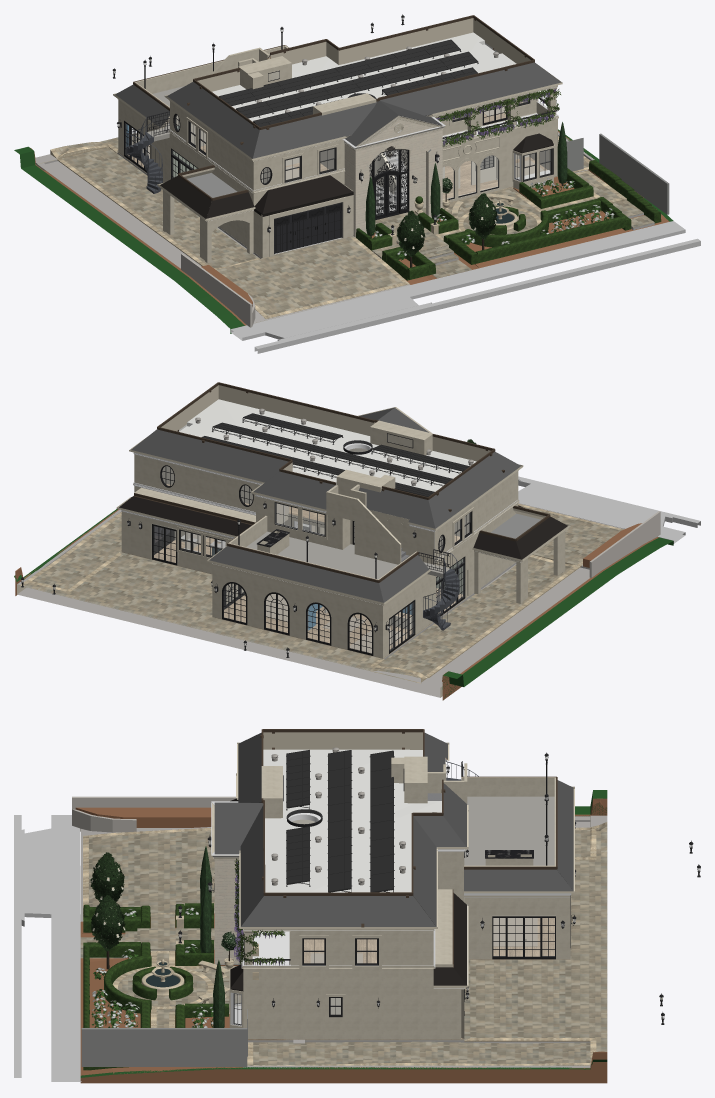
File: exterior-house-a51dc256f5b1.glb
3 renders of one model, top to bottom at view 1: azimuth 30°, elevation 25°; view 2: azimuth 150°, elevation 25°; view 3: azimuth 270°, elevation 25°, orthographic. The views are drawn at different scales.
Parts seen in each view (by area): view 1: exterior-house-2097c6bf0b01330b, exterior-house-b5dfe7249a3eb059, exterior-house-e7e6fa835f441169, exterior-house-27d577fbd7f2ff4b, exterior-house-aee2d046b0172b1e, exterior-house-772a07b3069847f0, exterior-house-e33d7b378dc851e2, exterior-house-d56ee2a9d54b1fc2, exterior-house-8ae50a6395ceb8a4, exterior-house-0b9d5d1cd0b2c60f, exterior-house-7cf8e5cfa8b264af, exterior-house-25c3ff3929e46046 (+47 smaller); view 2: exterior-house-37d1b262fca80116, exterior-house-8ae50a6395ceb8a4, exterior-house-d56ee2a9d54b1fc2, exterior-house-27d577fbd7f2ff4b, exterior-house-969b861f9850351e, exterior-house-aee2d046b0172b1e, exterior-house-c91f911e25c8cae7, exterior-house-5febae1537653d02, exterior-house-b5dfe7249a3eb059, exterior-house-3763e2fb8578d282, exterior-house-2c1fd33d433632d0, exterior-house-0cae3eb2f2d52fad (+40 smaller); view 3: exterior-house-37d1b262fca80116, exterior-house-aee2d046b0172b1e, exterior-house-b5dfe7249a3eb059, exterior-house-d56ee2a9d54b1fc2, exterior-house-2097c6bf0b01330b, exterior-house-2c1fd33d433632d0, exterior-house-07f5bde4319b7ab4, exterior-house-e7e6fa835f441169, exterior-house-a75a0c9c223328ee, exterior-house-ded88bd99590d377, exterior-house-af97eba351c411ae, exterior-house-e706aa16b4547c37 (+54 smaller).
Boxes of the visible parts, box(x1,y1,x2,y2) form: exterior-house-2097c6bf0b01330b: box(216, 236, 409, 318); exterior-house-b5dfe7249a3eb059: box(230, 221, 685, 340); exterior-house-e7e6fa835f441169: box(356, 182, 625, 280); exterior-house-27d577fbd7f2ff4b: box(57, 147, 260, 269); exterior-house-aee2d046b0172b1e: box(14, 129, 673, 333); exterior-house-772a07b3069847f0: box(254, 238, 700, 353); exterior-house-e33d7b378dc851e2: box(380, 62, 560, 115); exterior-house-d56ee2a9d54b1fc2: box(212, 32, 516, 121); exterior-house-8ae50a6395ceb8a4: box(35, 132, 594, 323); exterior-house-0b9d5d1cd0b2c60f: box(236, 51, 478, 118); exterior-house-7cf8e5cfa8b264af: box(218, 39, 461, 105); exterior-house-25c3ff3929e46046: box(253, 101, 377, 158); exterior-house-37d1b262fca80116: box(20, 552, 427, 683); exterior-house-8ae50a6395ceb8a4: box(17, 503, 624, 697); exterior-house-d56ee2a9d54b1fc2: box(181, 399, 476, 491); exterior-house-27d577fbd7f2ff4b: box(377, 555, 580, 677); exterior-house-969b861f9850351e: box(212, 566, 380, 657); exterior-house-aee2d046b0172b1e: box(14, 509, 673, 700); exterior-house-c91f911e25c8cae7: box(131, 429, 288, 482); exterior-house-5febae1537653d02: box(209, 546, 383, 602); exterior-house-b5dfe7249a3eb059: box(518, 484, 685, 543); exterior-house-3763e2fb8578d282: box(134, 454, 259, 512); exterior-house-2c1fd33d433632d0: box(28, 512, 121, 589); exterior-house-0cae3eb2f2d52fad: box(428, 451, 520, 528); exterior-house-37d1b262fca80116: box(464, 822, 607, 1064); exterior-house-aee2d046b0172b1e: box(80, 790, 607, 1083); exterior-house-b5dfe7249a3eb059: box(24, 815, 81, 1081); exterior-house-d56ee2a9d54b1fc2: box(263, 749, 441, 892); exterior-house-2097c6bf0b01330b: box(83, 828, 214, 921); exterior-house-2c1fd33d433632d0: box(247, 1041, 590, 1065); exterior-house-07f5bde4319b7ab4: box(81, 1028, 247, 1066); exterior-house-e7e6fa835f441169: box(83, 903, 228, 1027); exterior-house-a75a0c9c223328ee: box(241, 896, 436, 926); exterior-house-ded88bd99590d377: box(464, 796, 554, 865); exterior-house-af97eba351c411ae: box(372, 979, 461, 1038); exterior-house-e706aa16b4547c37: box(464, 897, 567, 959).
Bounding box in the file's own units: 31.9 × 8.68 × 35.2.
Materials: 108 (31 with a texture image).
